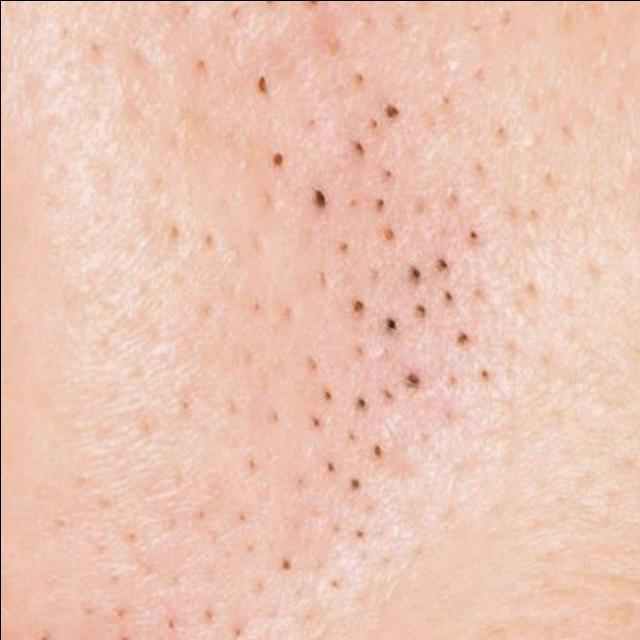blackhead: (215, 34, 531, 549)
